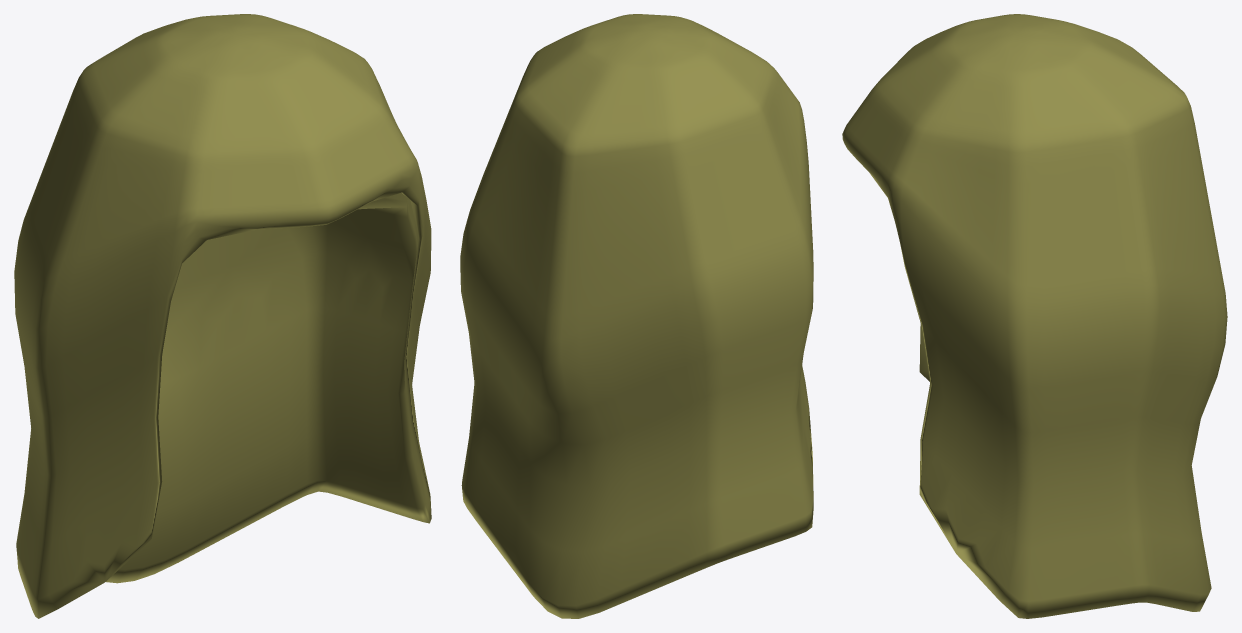
Rendered from peloMujer.fbx.
3 renders of one model, left to right at view 1: azimuth 30°, elevation 25°; view 2: azimuth 150°, elevation 25°; view 3: azimuth 270°, elevation 25°, orthographic. The views are drawn at different scales.
Parts seen in each view (by area): view 1: Pelo_mujer; view 2: Pelo_mujer; view 3: Pelo_mujer.
Boxes of the visible parts, x1=… form: Pelo_mujer: x1=14, y1=14, x2=431, y2=618; Pelo_mujer: x1=460, y1=14, x2=813, y2=618; Pelo_mujer: x1=842, y1=14, x2=1227, y2=618.
Size of the model in its own units: 0.7753 by 1.17 by 0.7154.
